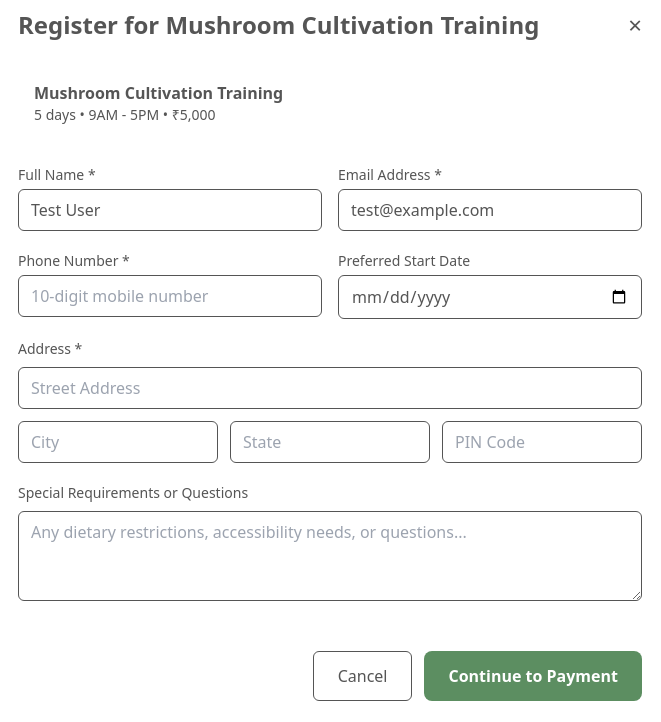
RegistrationModal Validation › shows error for invalid PIN code
# Fill required fields
Type "9876543210" into the field with placeholder "10-digit mobile number" at [170, 296], box [18, 275, 322, 317]
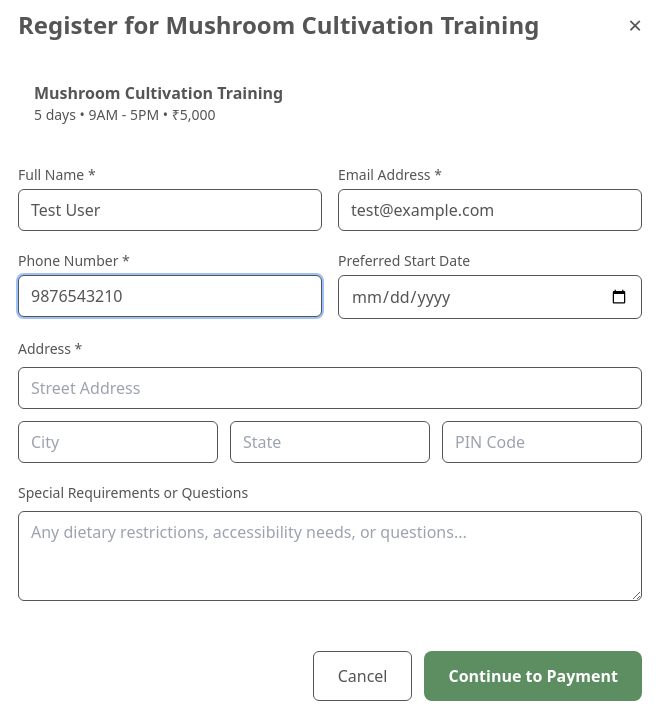
Type "123 Main Street" into the field with placeholder "Street Address" at [330, 388], box [18, 367, 642, 409]
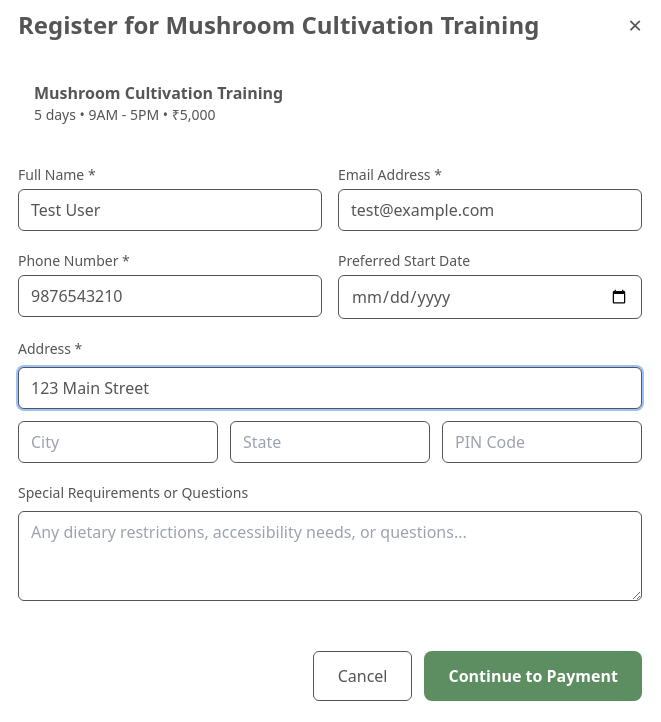
Type "Mumbai" into the field with placeholder "City" at [118, 442], box [18, 421, 218, 463]
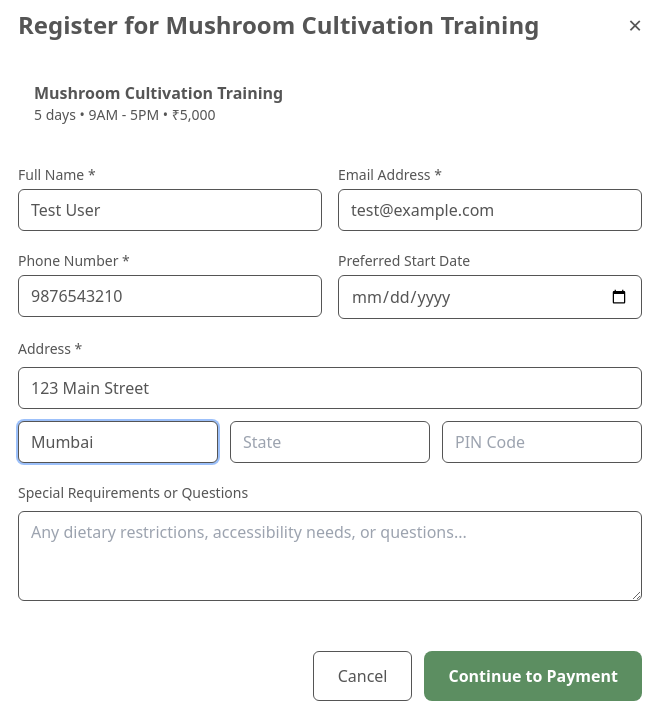
Type "Maharashtra" into the field with placeholder "State" at [330, 442], box [230, 421, 430, 463]
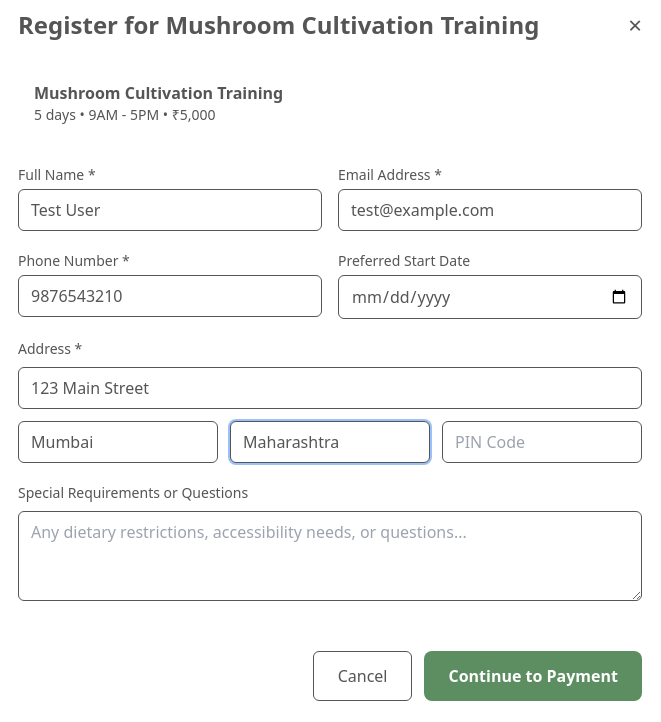
Type "123" into the field with placeholder "PIN Code" at [542, 442], box [442, 421, 642, 463]
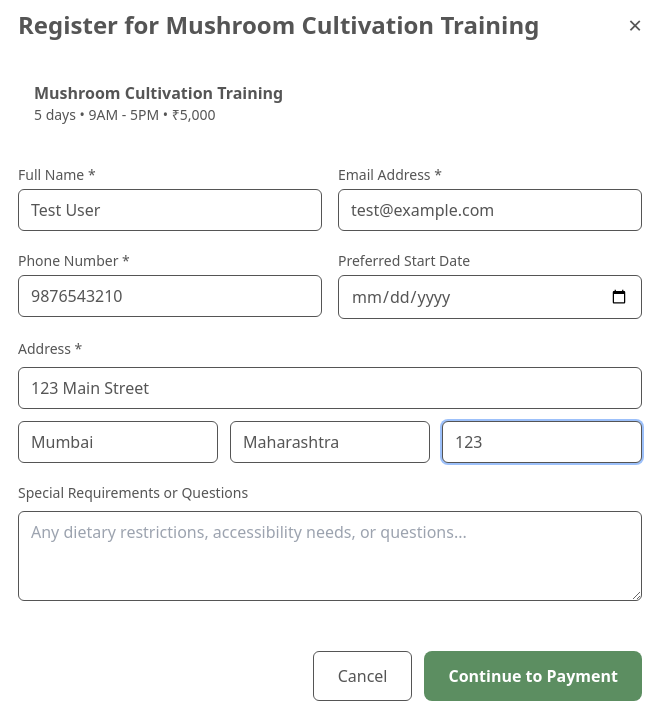
Click the button "Continue to Payment" at [533, 676], box [424, 651, 642, 701]
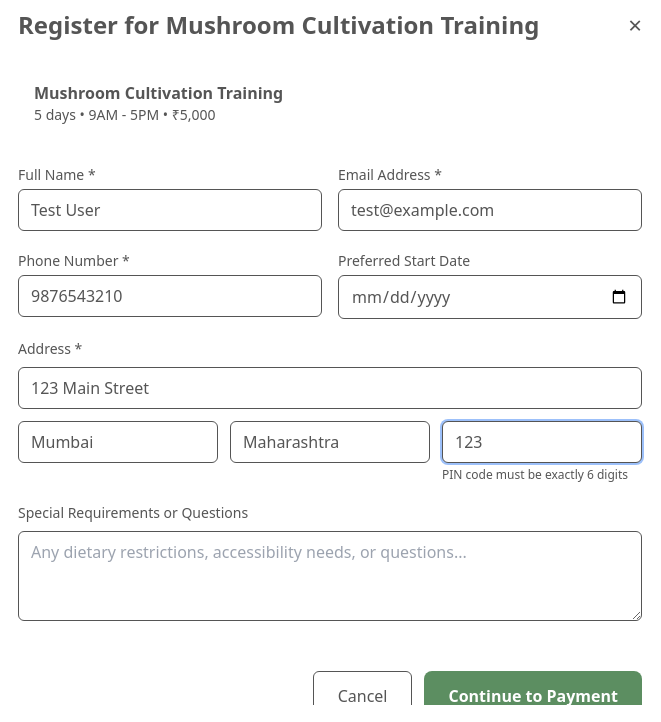
Now the text "PIN code must be exactly 6 digits" is shown, box [442, 467, 642, 483]
